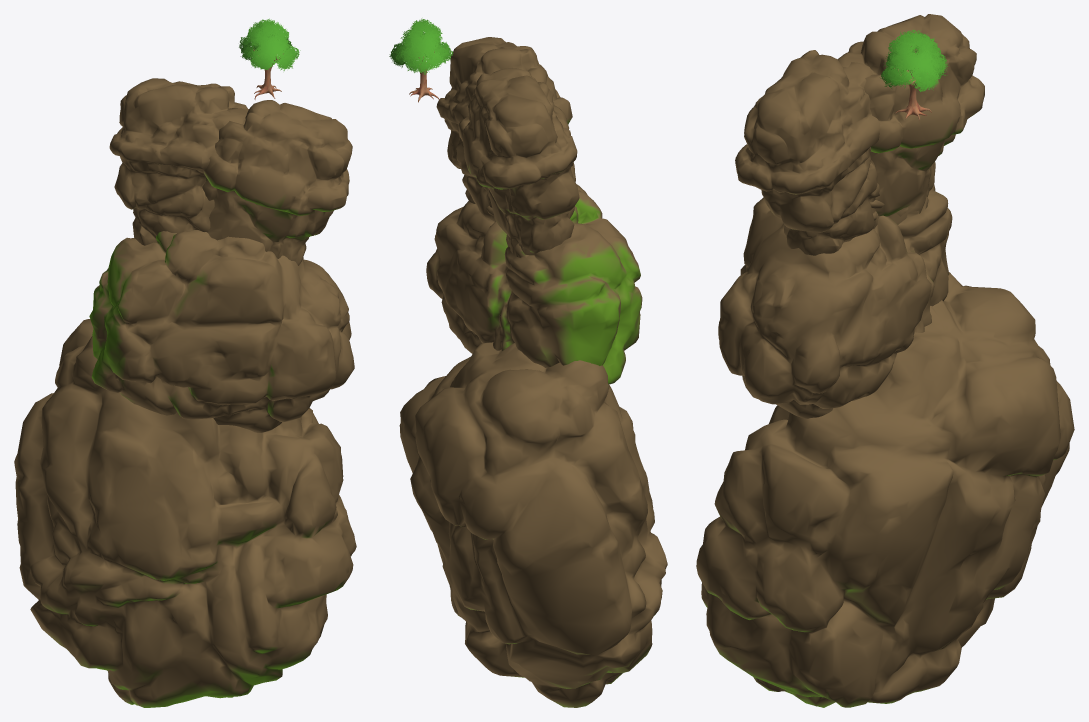
Rendered from cell_x-3_z2_render.gltf.
The picture shows the model from 3 angles, left to right: view 1: azimuth 30°, elevation 25°; view 2: azimuth 150°, elevation 25°; view 3: azimuth 270°, elevation 25°; orthographic projection. The views are drawn at different scales.
Visible parts, largest first — view 1: SM_ENV_cliff_castle_01_LOD0.002, SM_ENV_cliff_castle_01_LOD0.030, SM_ENV_cliff_castle_02_LOD0.036, SM_ENV_cliff_castle_02_LOD0.032, SM_ENV_tree_castle_01_LOD0.044; view 2: SM_ENV_cliff_castle_01_LOD0.002, SM_ENV_cliff_castle_01_LOD0.030, SM_ENV_cliff_castle_02_LOD0.032, SM_ENV_cliff_castle_02_LOD0.036, SM_ENV_tree_castle_01_LOD0.044; view 3: SM_ENV_cliff_castle_01_LOD0.002, SM_ENV_cliff_castle_01_LOD0.030, SM_ENV_cliff_castle_02_LOD0.036, SM_ENV_cliff_castle_02_LOD0.032, SM_ENV_tree_castle_01_LOD0.044.
Boxes of the visible parts, x1,y1,x2,y2 form: SM_ENV_cliff_castle_01_LOD0.002: [14, 319, 356, 707]; SM_ENV_cliff_castle_01_LOD0.030: [89, 230, 354, 432]; SM_ENV_cliff_castle_02_LOD0.036: [202, 100, 352, 265]; SM_ENV_cliff_castle_02_LOD0.032: [109, 78, 247, 245]; SM_ENV_tree_castle_01_LOD0.044: [239, 18, 300, 99]; SM_ENV_cliff_castle_01_LOD0.002: [399, 342, 667, 707]; SM_ENV_cliff_castle_01_LOD0.030: [426, 184, 642, 384]; SM_ENV_cliff_castle_02_LOD0.032: [458, 68, 579, 255]; SM_ENV_cliff_castle_02_LOD0.036: [436, 37, 572, 221]; SM_ENV_tree_castle_01_LOD0.044: [389, 18, 453, 102]; SM_ENV_cliff_castle_01_LOD0.002: [696, 272, 1074, 707]; SM_ENV_cliff_castle_01_LOD0.030: [718, 184, 952, 418]; SM_ENV_cliff_castle_02_LOD0.036: [735, 50, 887, 255]; SM_ENV_cliff_castle_02_LOD0.032: [838, 14, 984, 224]; SM_ENV_tree_castle_01_LOD0.044: [880, 29, 947, 120].
Size of the model in its own units: 59.62 by 140 by 64.68.
3 materials, 2 textured.
